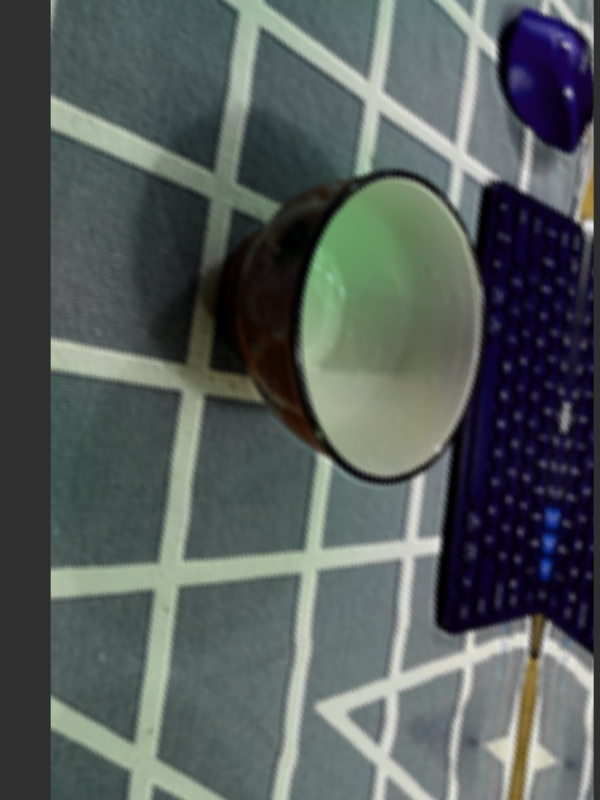bowl_small: (189, 122, 508, 510)
